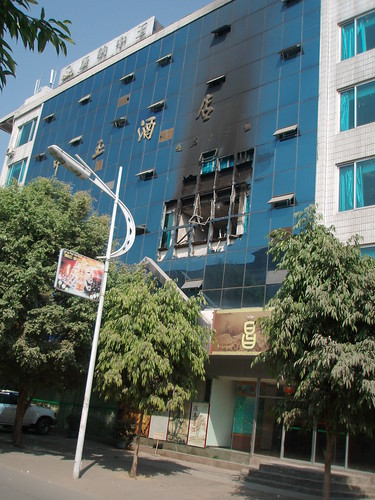building: (54, 1, 309, 480)
tree: (258, 203, 375, 493), (1, 188, 110, 452), (77, 265, 193, 474)
